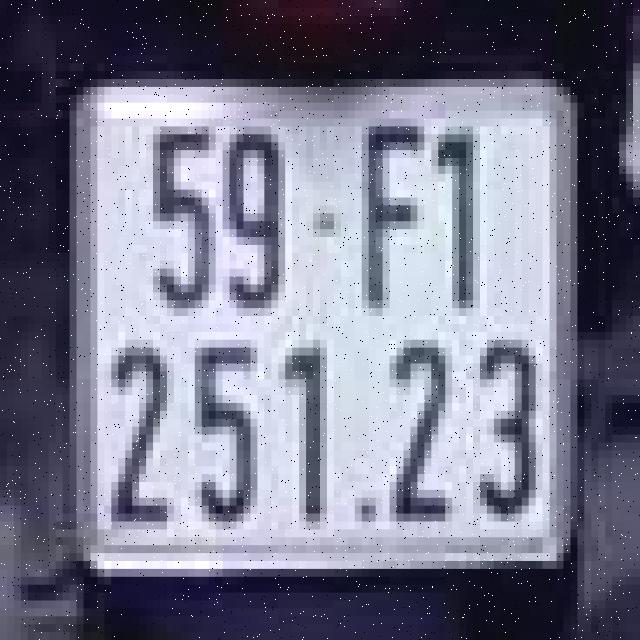1: (431, 119, 494, 316), (275, 344, 330, 549)
2: (101, 332, 177, 537), (383, 332, 445, 521)
3: (463, 332, 539, 521)
5: (125, 103, 223, 324), (184, 328, 254, 525)
9: (226, 114, 303, 328)
F: (351, 111, 435, 324)
